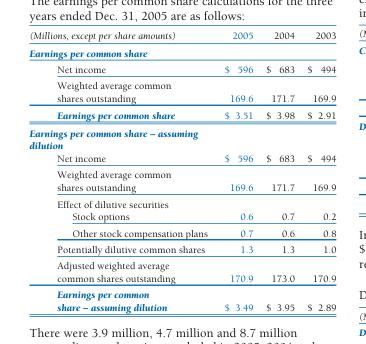table: (28, 29, 335, 312)
table column: (28, 29, 215, 312), (215, 29, 258, 312), (258, 29, 300, 312), (300, 29, 335, 312)
table column header: (28, 29, 335, 43)
table projected row header: (28, 123, 335, 151), (28, 43, 335, 60), (28, 195, 335, 209)
table row: (28, 77, 335, 106), (28, 166, 335, 195), (28, 257, 335, 286), (28, 123, 335, 151), (28, 286, 335, 312), (28, 43, 335, 60), (28, 60, 335, 77), (28, 106, 335, 123), (28, 240, 335, 257), (28, 224, 335, 240), (28, 151, 335, 166), (28, 209, 335, 224), (28, 29, 335, 43), (28, 195, 335, 209)
